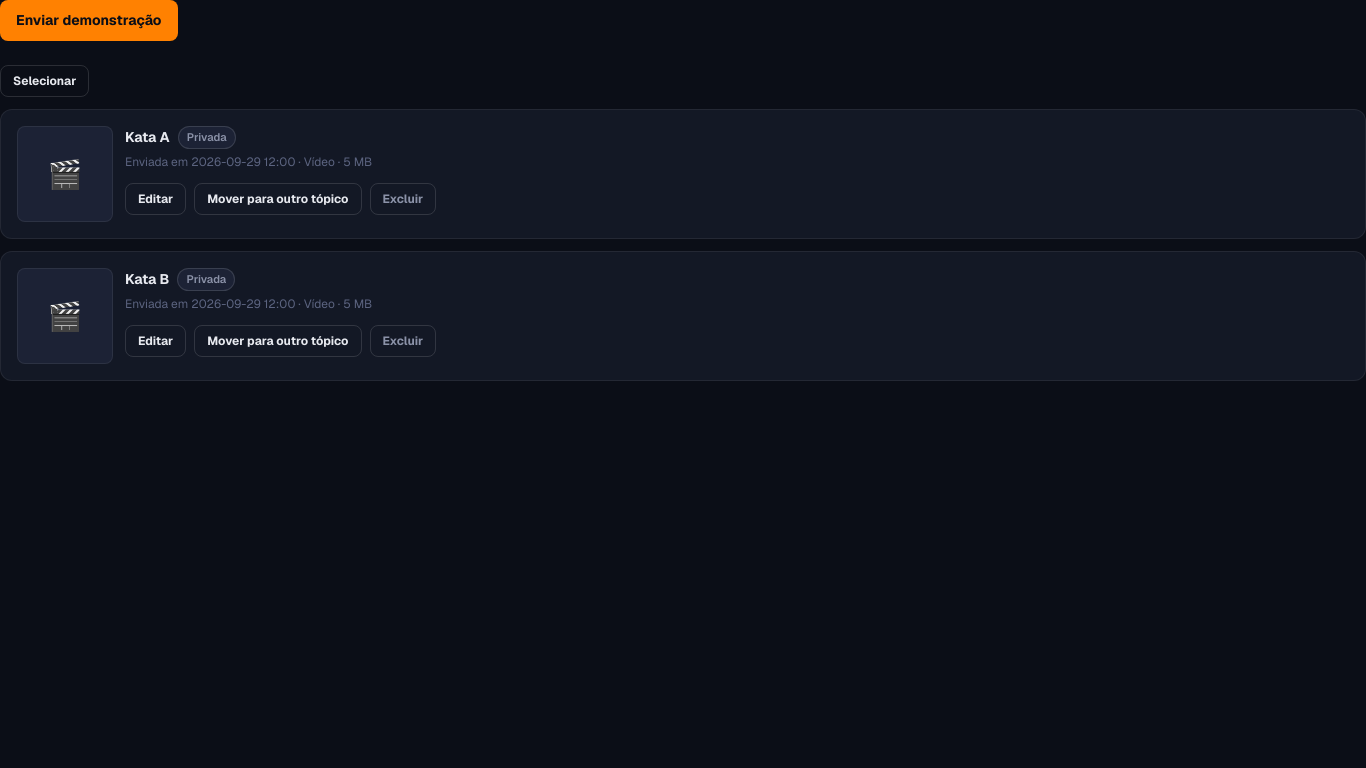
Test: MineTab › moves one card: it leaves this topic's list and the counts are re-read
The width and height of the screenshot is (1366, 768).
Click the button "Mover para outro tópico" below "Kata A".
click(278, 198)  # box [194,182,362,214]
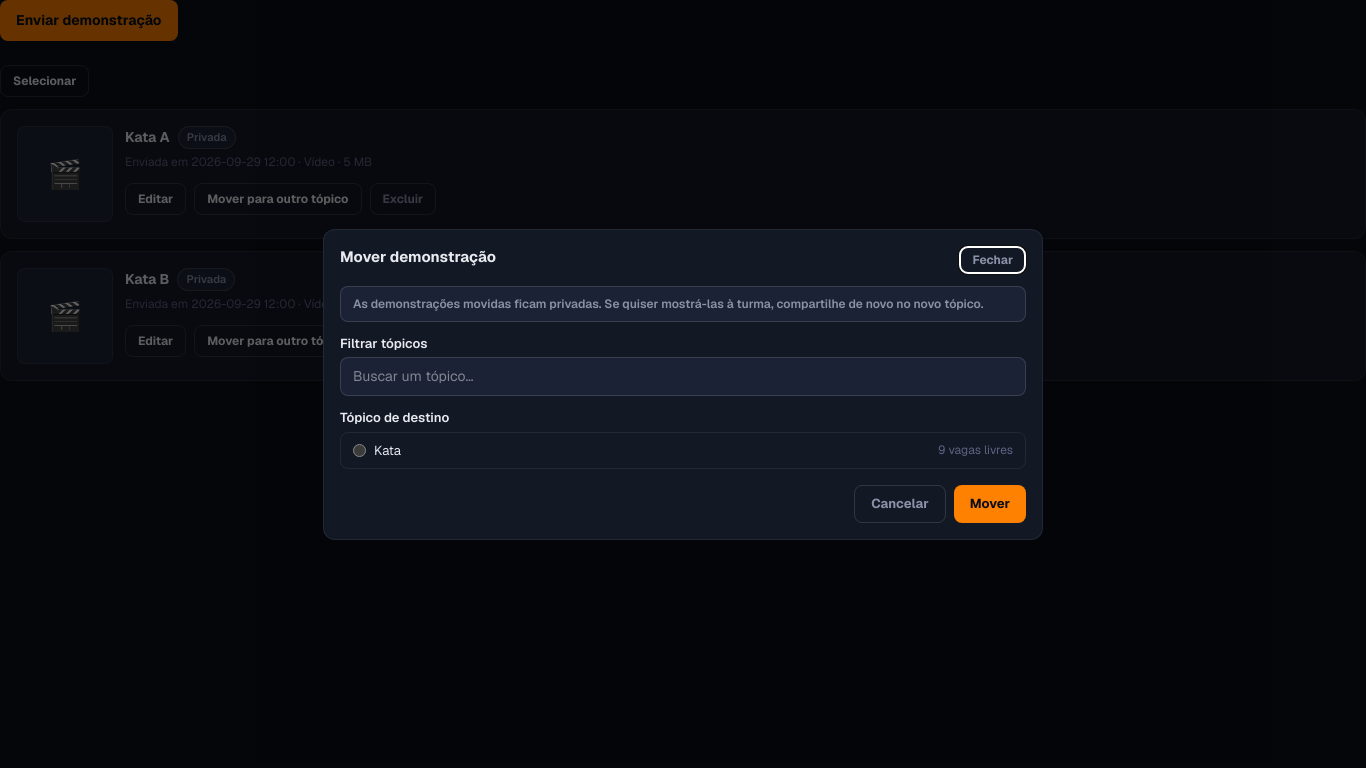
Click the radio button labelled "Kata 9 vagas livres".
click(360, 450)  # box [353,444,366,457]
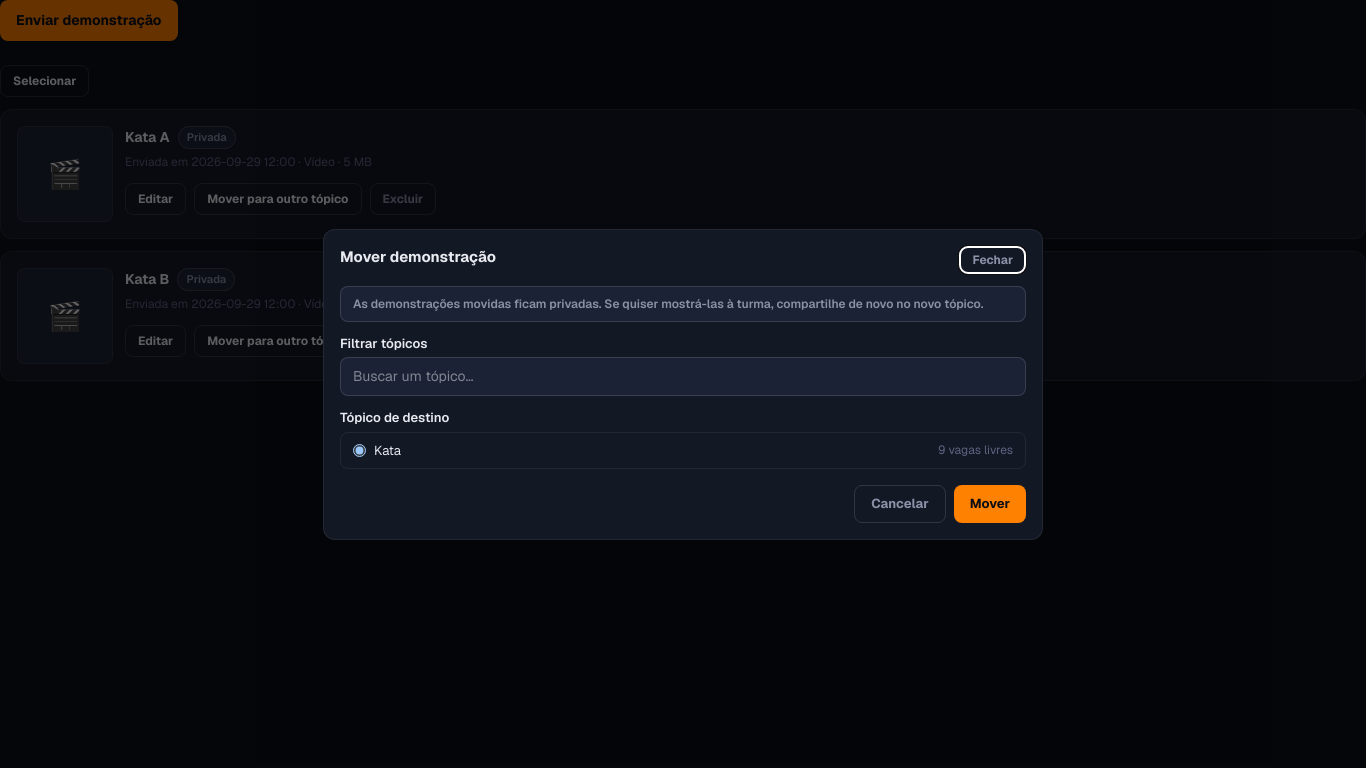
Click the button "Mover".
click(990, 504)  # box [954,485,1026,522]
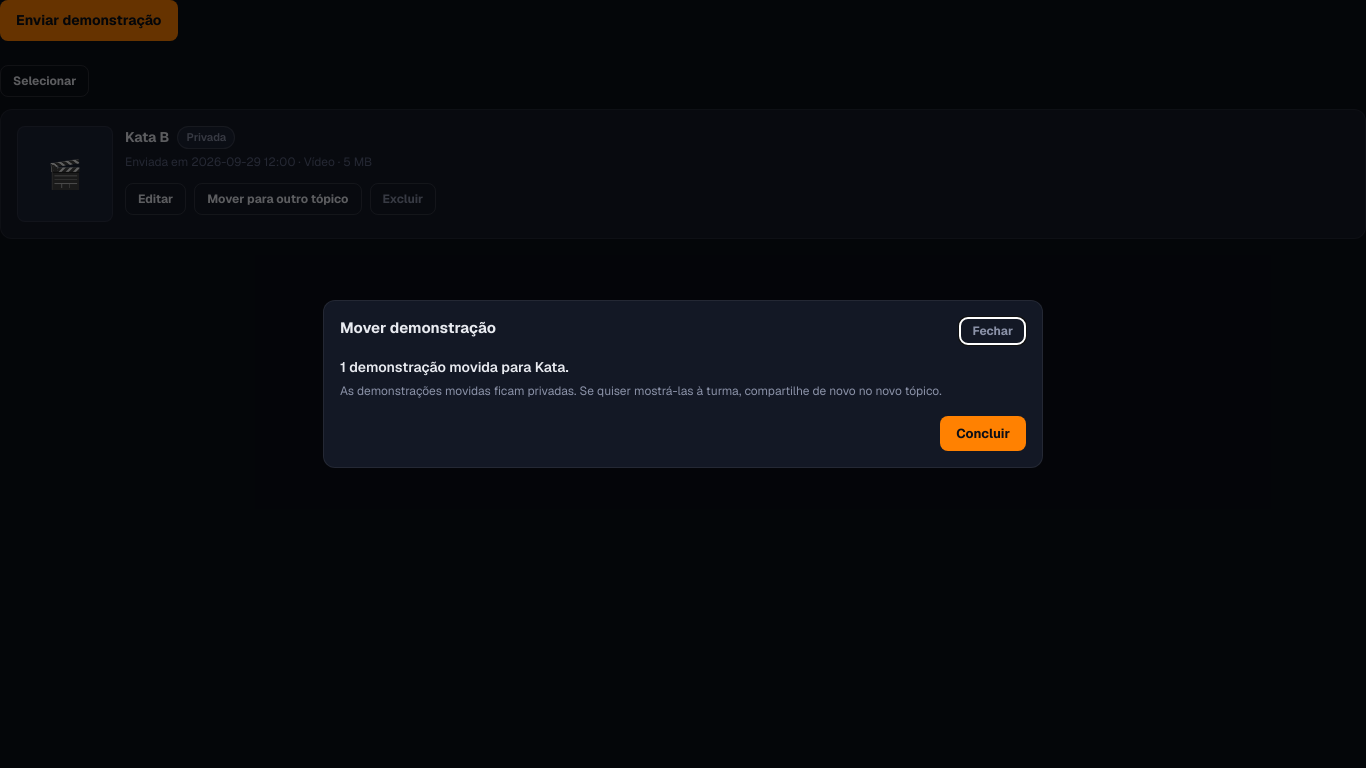
Result: the heading "Kata A" is gone
Click the button "Concluir".
click(983, 434)  # box [940,416,1026,451]
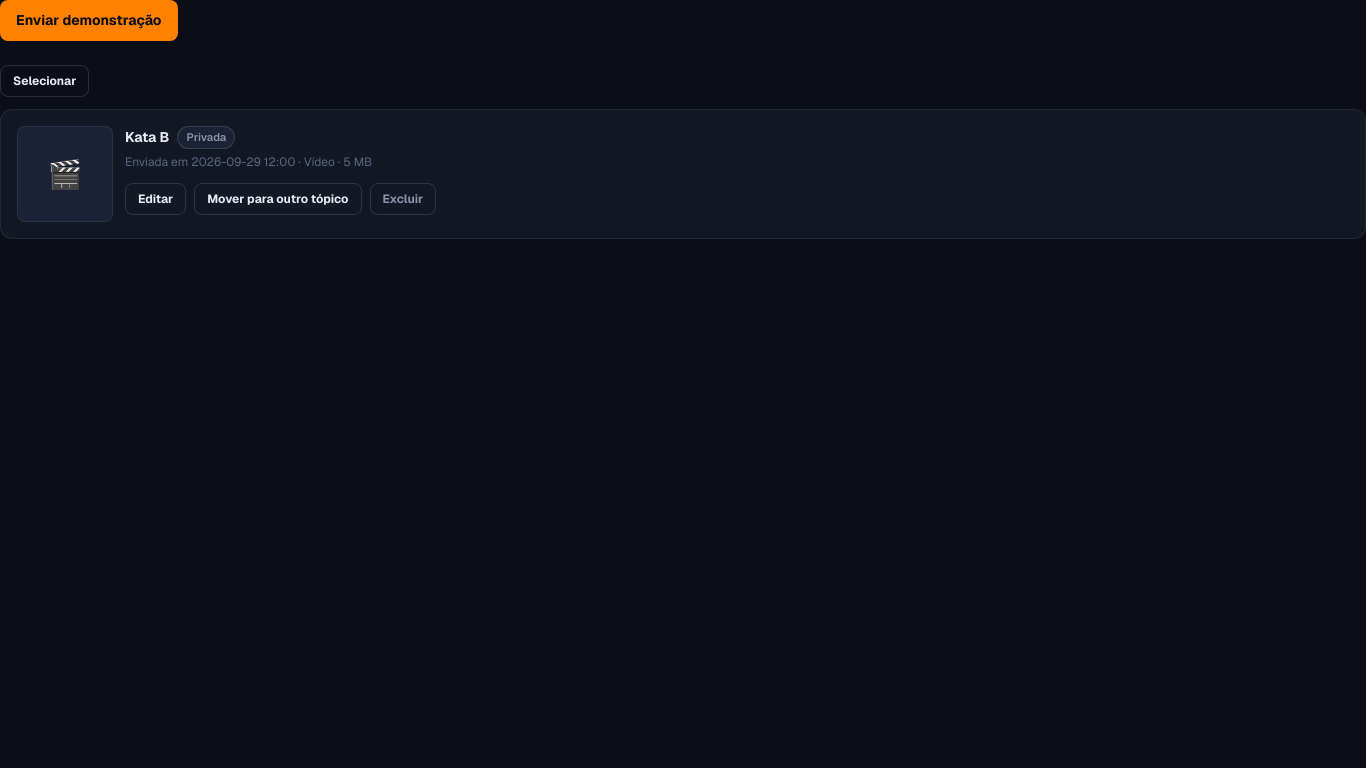
Expected: the element "Kata B" is shown, [0,109,1365,239]
Result: the dialog is gone
